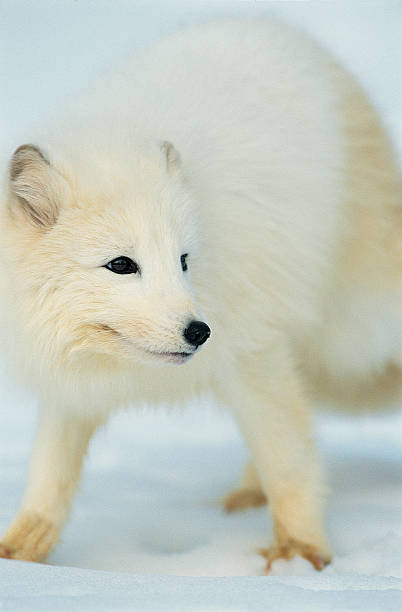arcticfox: (48, 172, 223, 386)
